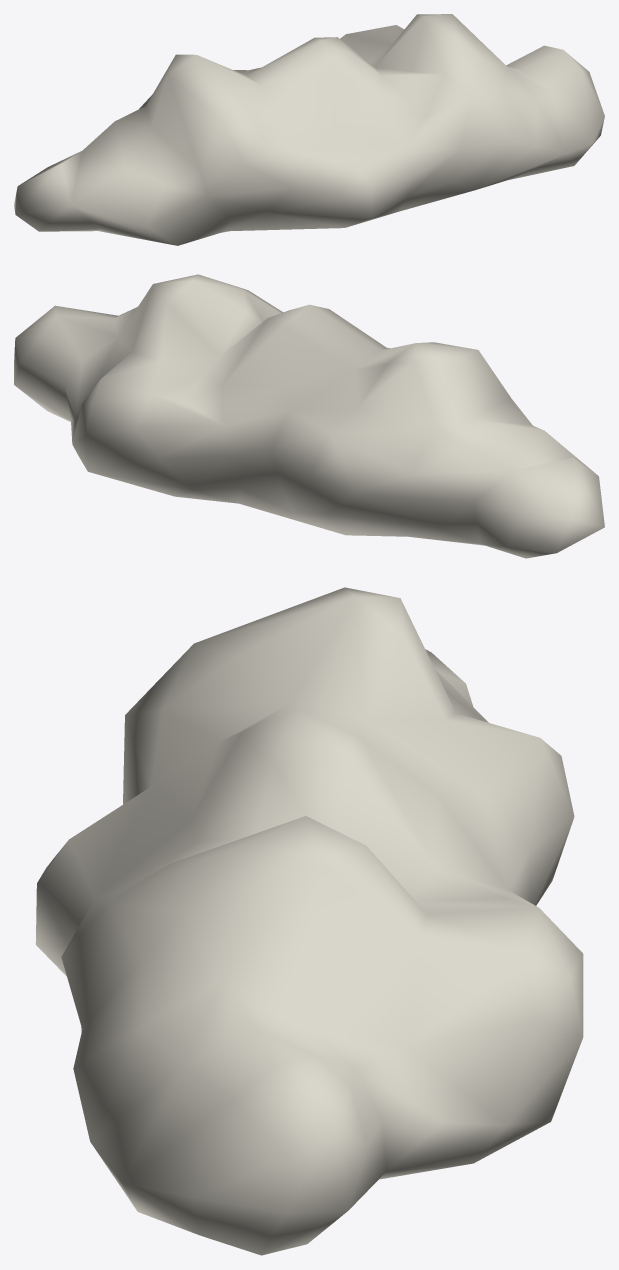
The model's file is rpgpp_ag_cloud_03.fbx.
3 renders of one model, top to bottom at view 1: azimuth 30°, elevation 25°; view 2: azimuth 150°, elevation 25°; view 3: azimuth 270°, elevation 25°, orthographic. The views are drawn at different scales.
Visible parts, largest first — view 1: rpgpp_ag_cloud_03; view 2: rpgpp_ag_cloud_03; view 3: rpgpp_ag_cloud_03.
Part boxes in pixels (bbox=[...]): rpgpp_ag_cloud_03: bbox=[14, 14, 604, 245]; rpgpp_ag_cloud_03: bbox=[14, 274, 604, 558]; rpgpp_ag_cloud_03: bbox=[35, 587, 583, 1255].
Size of the model in its own units: 42.37 by 12.58 by 17.99.
